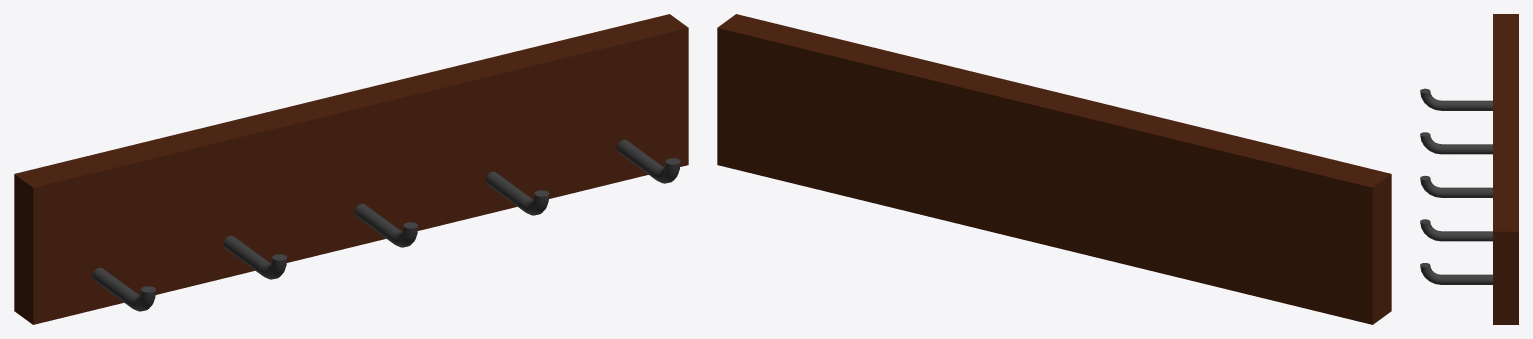
The model's file is Kapstok (textured).FBX.
The picture shows the model from 3 angles, left to right: view 1: azimuth 30°, elevation 25°; view 2: azimuth 150°, elevation 25°; view 3: azimuth 270°, elevation 25°; orthographic projection. The views are drawn at different scales.
Visible parts, largest first — view 1: Box003, Cylinder003, Cylinder001, Cylinder006, Cylinder012, Cylinder014, Cylinder011; view 2: Box003; view 3: Box003, Cylinder001, Cylinder003, Cylinder006, Cylinder012, Cylinder014, Cylinder011, Cylinder004, Cylinder002, Cylinder005, Cylinder013.
Part boxes in pixels (x1,y1,x2,y2): Box003: [14, 14, 688, 324]; Cylinder003: [223, 235, 270, 275]; Cylinder001: [354, 203, 401, 243]; Cylinder006: [92, 267, 139, 307]; Cylinder012: [485, 171, 532, 211]; Cylinder014: [616, 139, 663, 179]; Cylinder011: [523, 190, 549, 215]; Box003: [717, 14, 1391, 324]; Box003: [1493, 14, 1518, 324]; Cylinder001: [1441, 187, 1492, 197]; Cylinder003: [1441, 144, 1492, 154]; Cylinder006: [1441, 100, 1492, 110]; Cylinder012: [1441, 231, 1492, 241]; Cylinder014: [1441, 274, 1492, 284]; Cylinder011: [1420, 219, 1441, 241]; Cylinder004: [1420, 132, 1441, 154]; Cylinder002: [1420, 175, 1441, 197]; Cylinder005: [1420, 88, 1441, 110]; Cylinder013: [1420, 263, 1441, 284].
Size of the model in its own units: 100 by 20 by 19.17.
